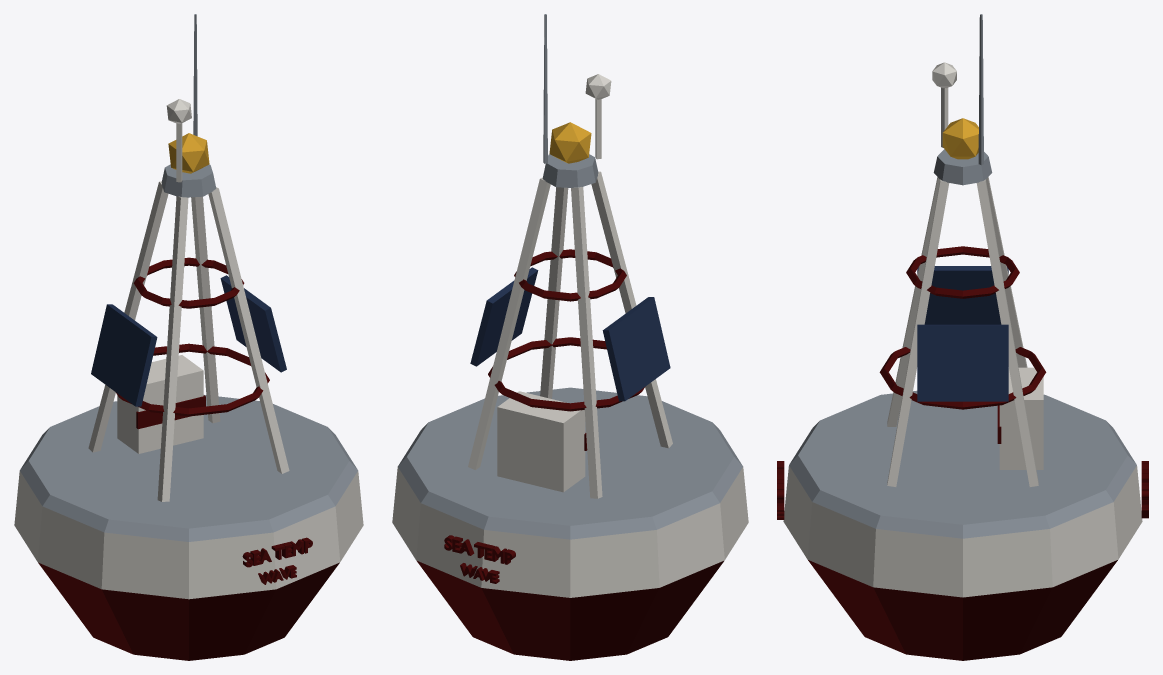
File: Research_Buoy_B.glb
The picture shows the model from 3 angles, left to right: view 1: azimuth 30°, elevation 25°; view 2: azimuth 150°, elevation 25°; view 3: azimuth 270°, elevation 25°; orthographic projection. The views are drawn at different scales.
Visible parts, largest first — view 1: Research_Buoy_B; view 2: Research_Buoy_B; view 3: Research_Buoy_B.
Boxes of the visible parts, x1=… form: Research_Buoy_B: x1=14, y1=14, x2=363, y2=660; Research_Buoy_B: x1=392, y1=14, x2=748, y2=660; Research_Buoy_B: x1=777, y1=14, x2=1148, y2=660.
Size of the model in its own units: 1.96 by 3.65 by 2.03.
